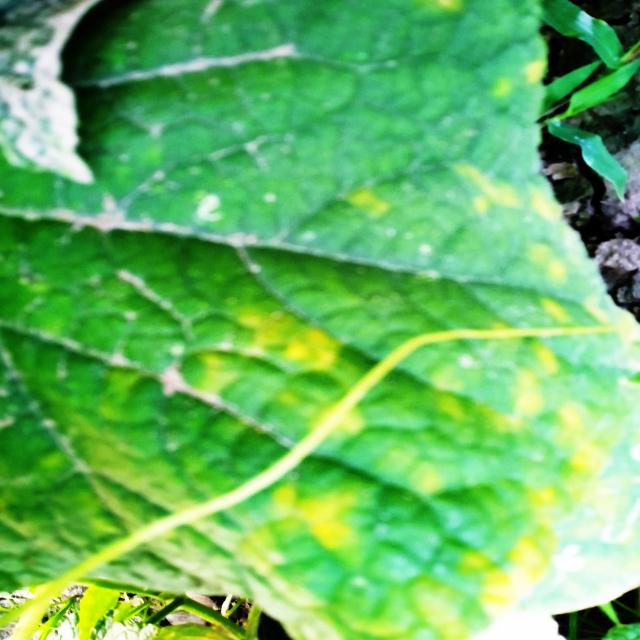Downy-Mildew: (0, 6, 640, 639)
